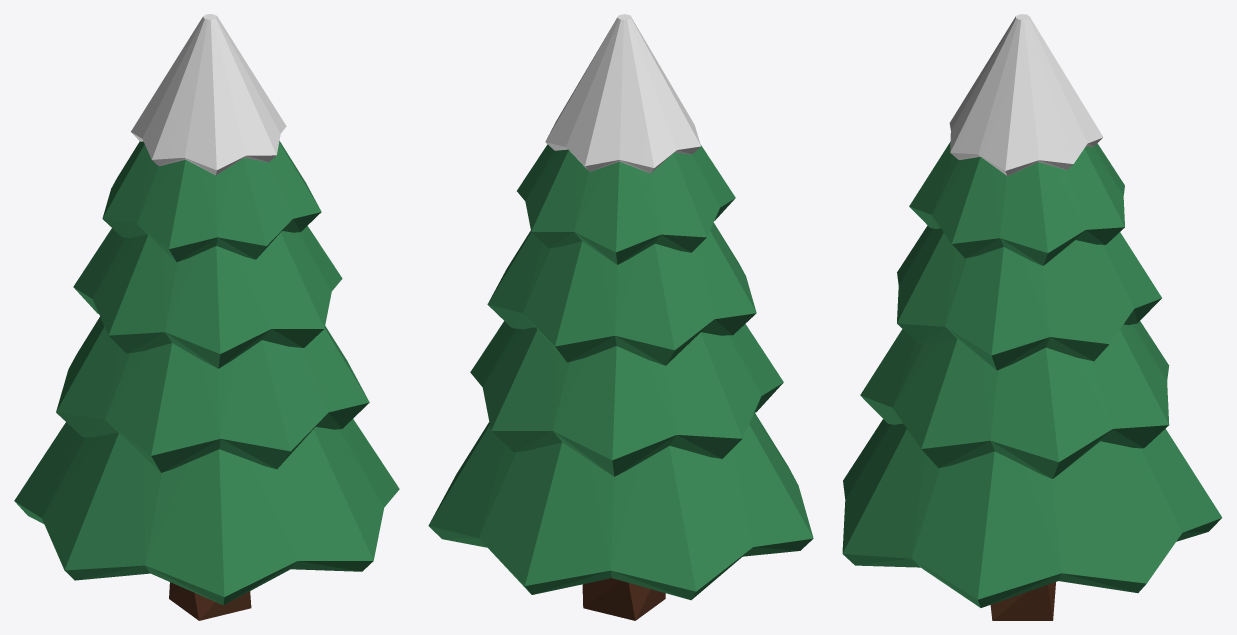
File: FH_Pine2.fbx
3 renders of one model, left to right at view 1: azimuth 30°, elevation 25°; view 2: azimuth 150°, elevation 25°; view 3: azimuth 270°, elevation 25°, orthographic.
Parts seen in each view (by area): view 1: Cube; view 2: Cube; view 3: Cube.
Boxes of the visible parts, <box> form: Cube: <box>14,14,399,620</box>; Cube: <box>428,14,813,620</box>; Cube: <box>842,14,1222,620</box>.
Size of the model in its own units: 1414 by 2367 by 1379.
